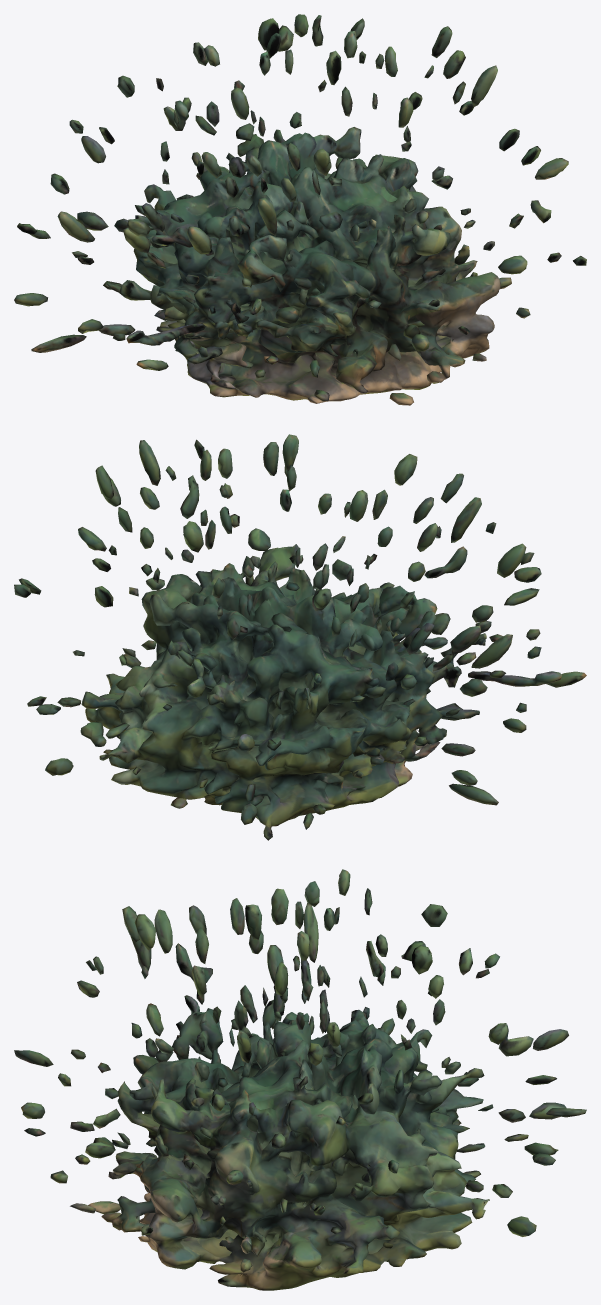
Rendered from AI_ThornyBush.fbx.
3 views of the same model, one above another, from view 1: azimuth 30°, elevation 25°; view 2: azimuth 150°, elevation 25°; view 3: azimuth 270°, elevation 25° (orthographic). The views are drawn at different scales.
Parts seen in each view (by area): view 1: Mesh1; view 2: Mesh1; view 3: Mesh1.
Part boxes in pixels (x1,y1,x2,y2): Mesh1: (14, 14, 586, 405); Mesh1: (14, 434, 586, 840); Mesh1: (14, 869, 586, 1290).
Size of the model in its own units: 184 by 119 by 178.
Materials: 1 (1 with a texture image).
